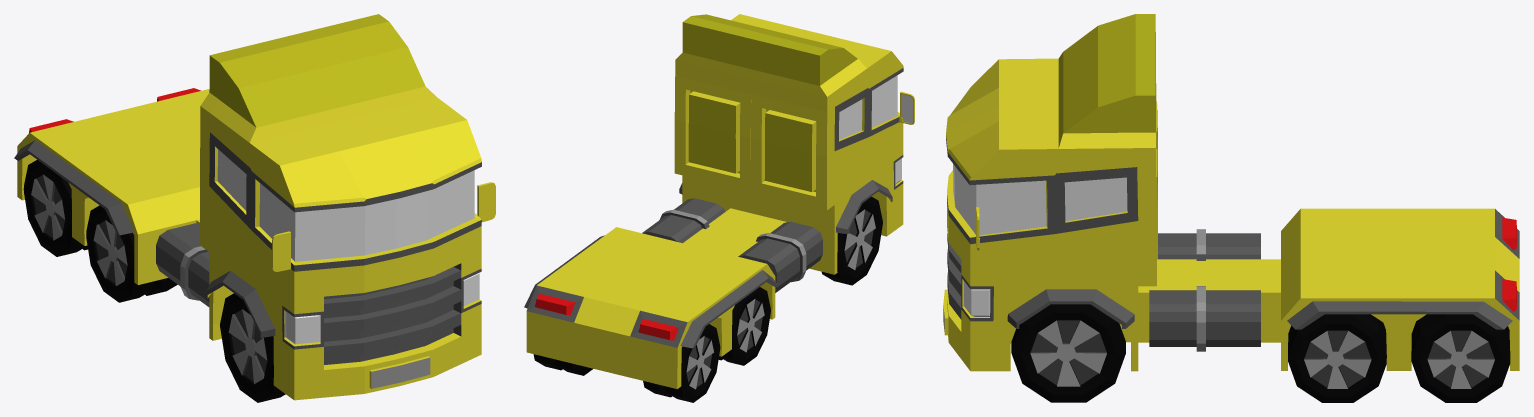
Rendered from V12 Body.fbx.
3 views of the same model, side by side, from view 1: azimuth 30°, elevation 25°; view 2: azimuth 150°, elevation 25°; view 3: azimuth 270°, elevation 25° (orthographic). The views are drawn at different scales.
Visible parts, largest first — view 1: Body, F_R_Wheel, R1_R_Wheel, R2_R_Wheel; view 2: Body, F_R_Wheel, R2_R_Wheel, R1_R_Wheel, R2_L_Wheel; view 3: Body, F_L_Wheel, R1_L_Wheel, R2_L_Wheel.
Boxes of the visible parts, box(x1,y1,x2,y2) form: Body: box(14, 14, 495, 400); F_R_Wheel: box(220, 293, 285, 402); R1_R_Wheel: box(86, 205, 177, 302); R2_R_Wheel: box(23, 160, 87, 256); Body: box(524, 14, 914, 388); F_R_Wheel: box(821, 196, 882, 285); R2_R_Wheel: box(643, 324, 720, 402); R1_R_Wheel: box(718, 287, 770, 365); R2_L_Wheel: box(533, 354, 593, 375); Body: box(943, 14, 1519, 371); F_L_Wheel: box(1011, 304, 1125, 402); R1_L_Wheel: box(1288, 314, 1386, 402); R2_L_Wheel: box(1411, 314, 1510, 402).
Size of the model in its own units: 618 by 816 by 1400.
